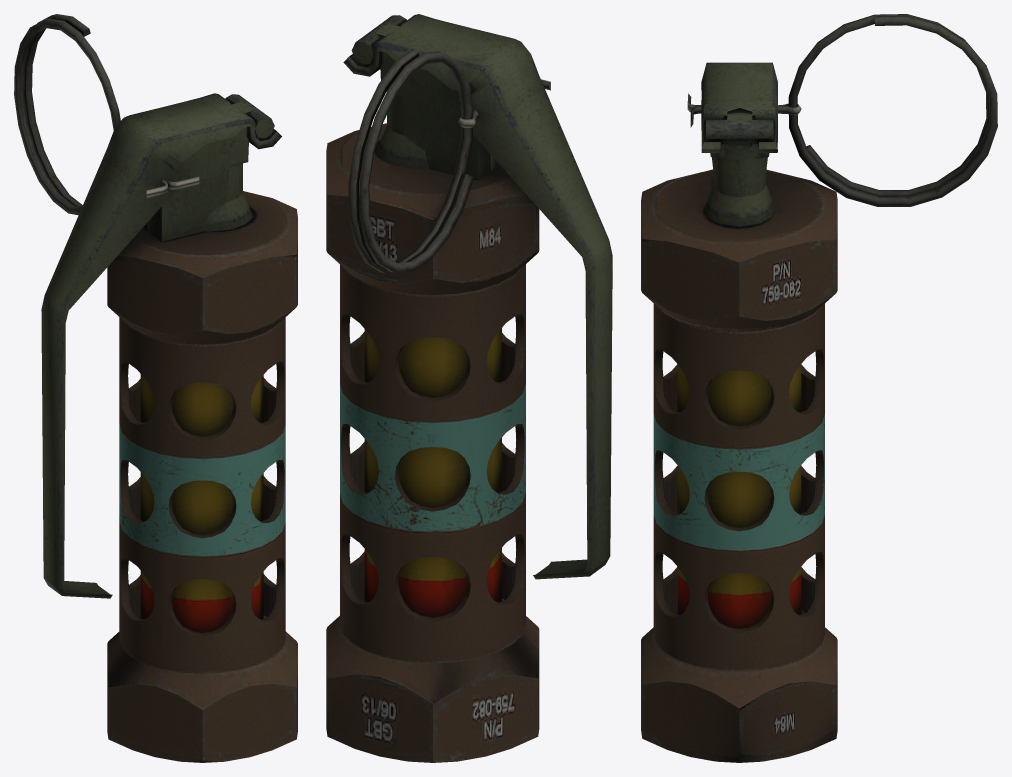
Rendered from w_eq_flashbang_dropped.fbx.
3 renders of one model, left to right at view 1: azimuth 30°, elevation 25°; view 2: azimuth 150°, elevation 25°; view 3: azimuth 270°, elevation 25°, orthographic. The views are drawn at different scales.
Visible parts, largest first — view 1: w_eq_flashbang_dropped; view 2: w_eq_flashbang_dropped; view 3: w_eq_flashbang_dropped.
Part boxes in pixels (x1,y1,x2,y2): w_eq_flashbang_dropped: (14, 14, 297, 762); w_eq_flashbang_dropped: (326, 14, 612, 762); w_eq_flashbang_dropped: (641, 14, 997, 762).
Bounding box in the file's own units: 3.1 × 7.96 × 3.76.
